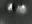person: (16, 4, 22, 16), (21, 5, 27, 17), (9, 4, 14, 15)
